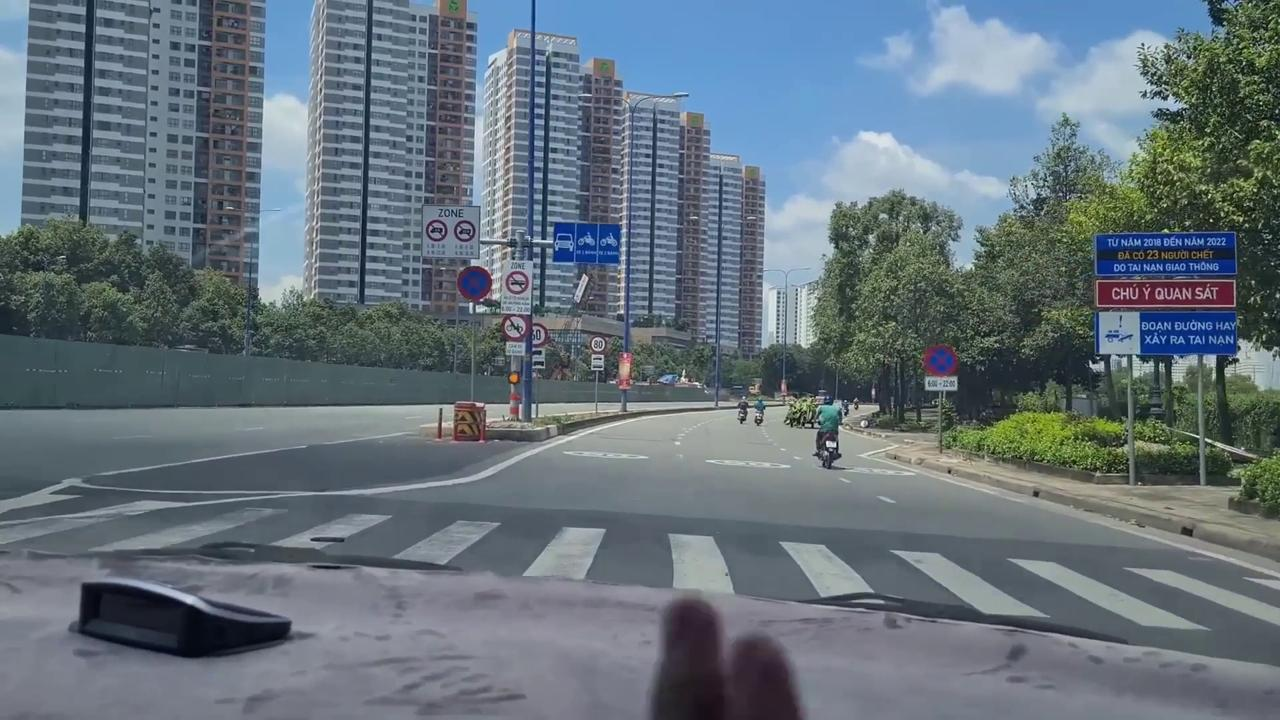Biển phụ: (924, 376, 958, 391), (528, 348, 544, 371), (506, 341, 526, 356), (590, 354, 604, 371)
Cấm cac phương tiện hoạt động trong khung giờ cố định: (421, 203, 481, 260), (500, 259, 532, 315)
Cấm dừng - Cấm đỗ: (456, 264, 493, 304), (922, 343, 958, 376)
Cấm xe máy: (501, 314, 528, 342)
GIơi hạn tốc độ 60Km/h: (529, 322, 549, 347)
Giới hạn tốc độ 80Km/h: (589, 334, 608, 354)
Khác: (1092, 230, 1239, 357)
Làn đường cho từng xe: (553, 222, 621, 265)
